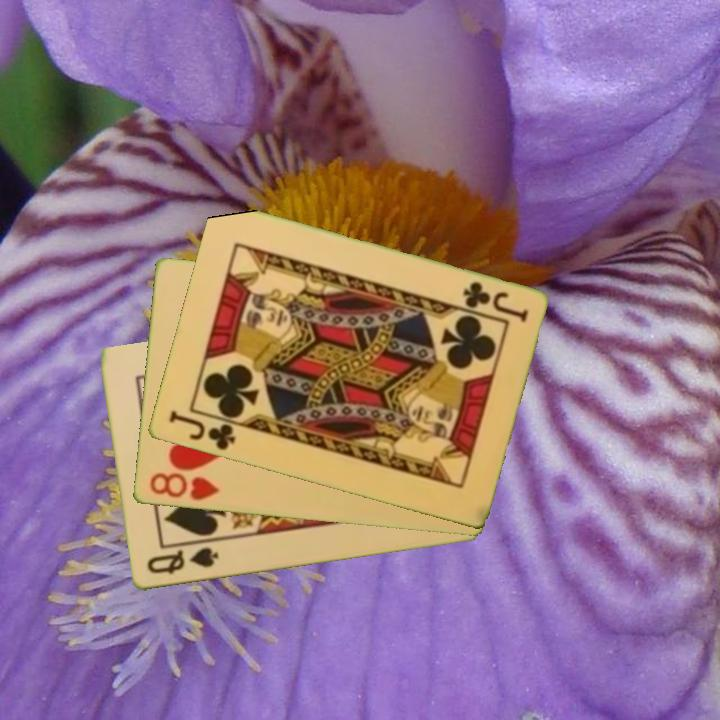8h: (145, 469, 222, 504)
Jc: (164, 407, 238, 454), (458, 278, 531, 325)
Qs: (143, 544, 221, 578)
